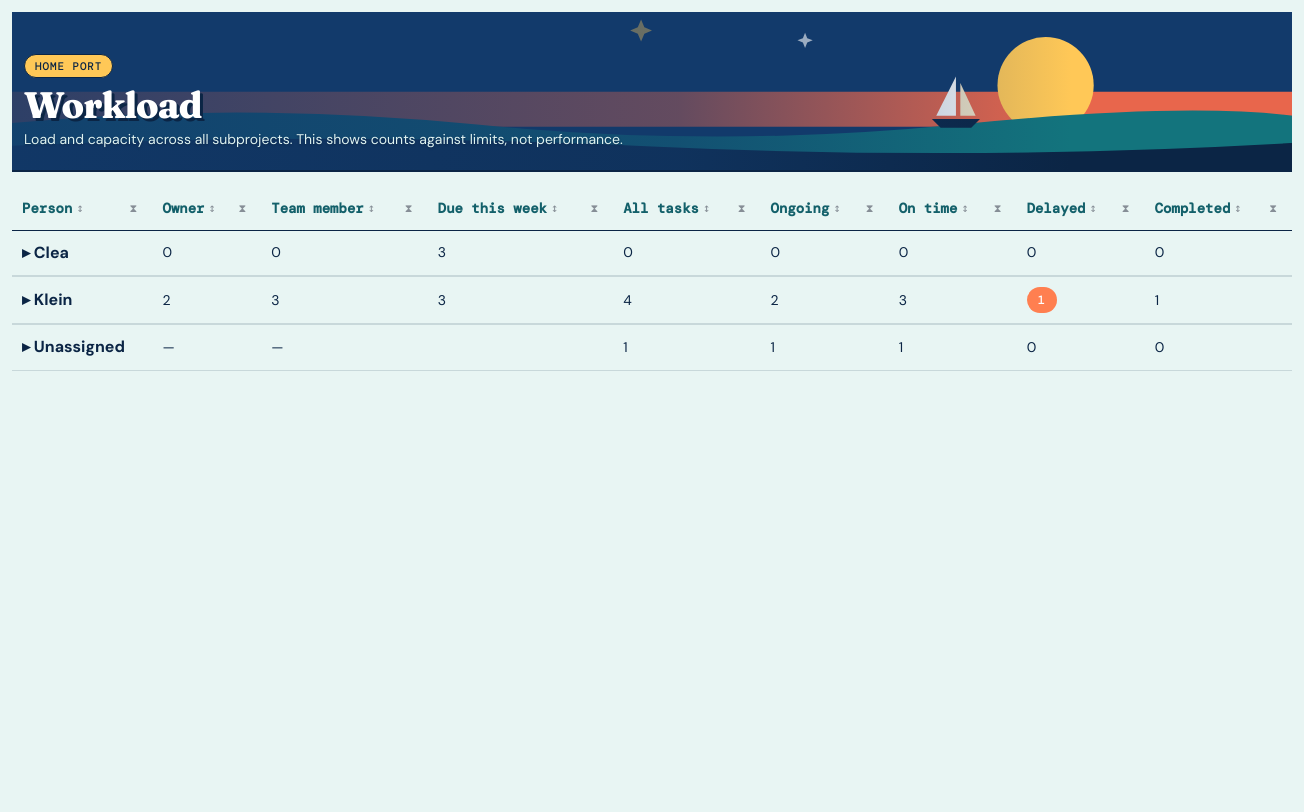
Scenario: Workload page › puts a completion checkbox in the leftmost cell of every expanded task row
Click the button "▸ Klein" at (47, 300), box [22,288,72,313]
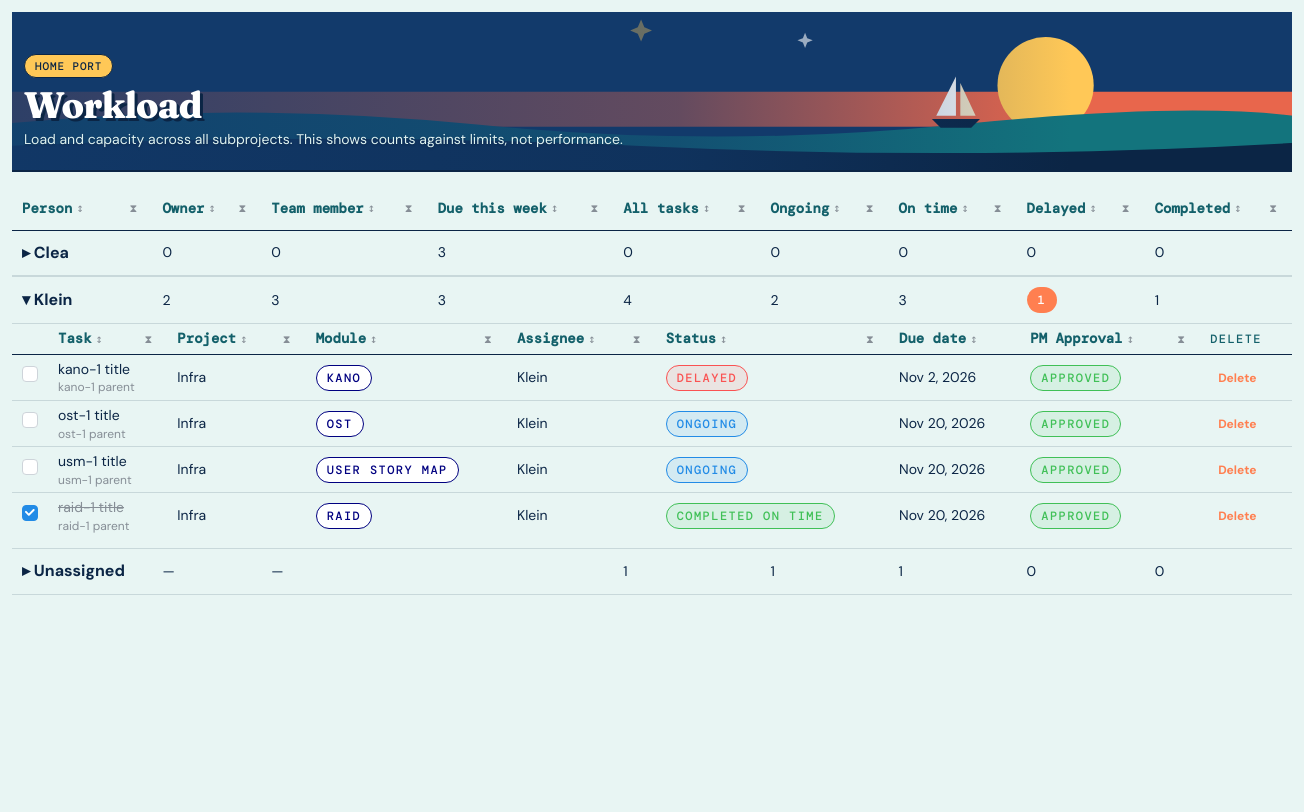
Result: the checkbox named "Complete kano-1 title" is shown at [22,366,38,382]
Result: the checkbox named "Complete usm-1 title" is shown at [22,459,38,475]
Result: the checkbox named "Reopen raid-1 title" is checked at [22,505,38,521]
